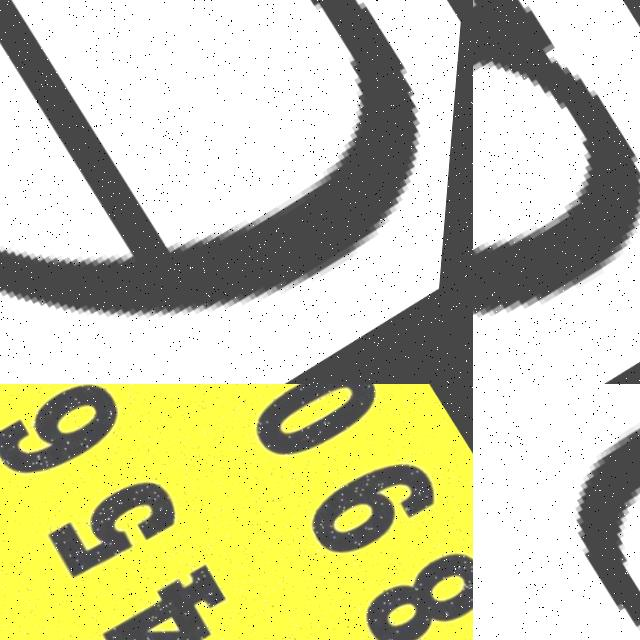0: (220, 384, 415, 487)
4: (74, 528, 268, 640)
5: (25, 438, 209, 608)
6: (0, 384, 155, 519)
7: (389, 588, 473, 640)
8: (345, 506, 473, 640)
9: (284, 407, 473, 583)
D: (473, 0, 640, 384)
